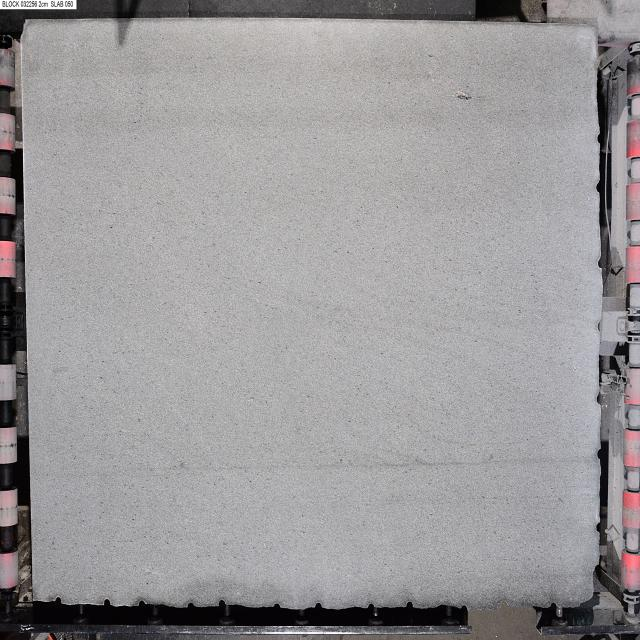chapa: (22, 20, 601, 609)
veio: (494, 598, 512, 613), (365, 600, 378, 614), (52, 596, 64, 610), (215, 598, 228, 610), (404, 600, 416, 612), (101, 598, 112, 610), (312, 601, 323, 609)
